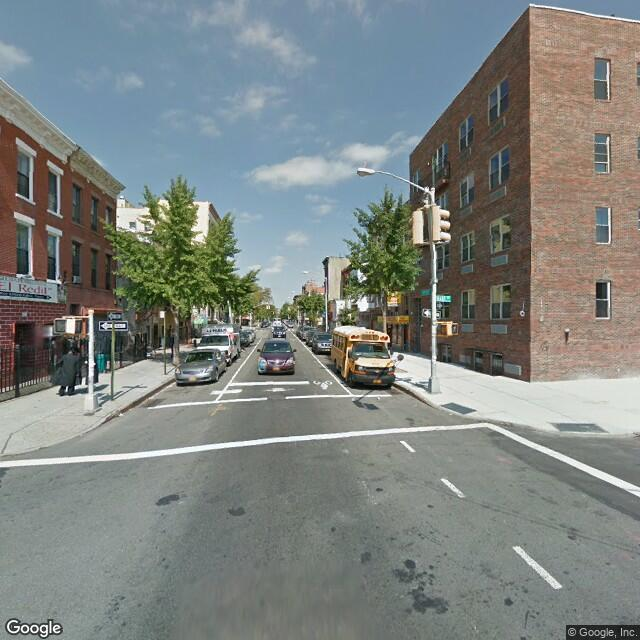litter: (376, 396, 383, 400), (118, 412, 123, 416)
